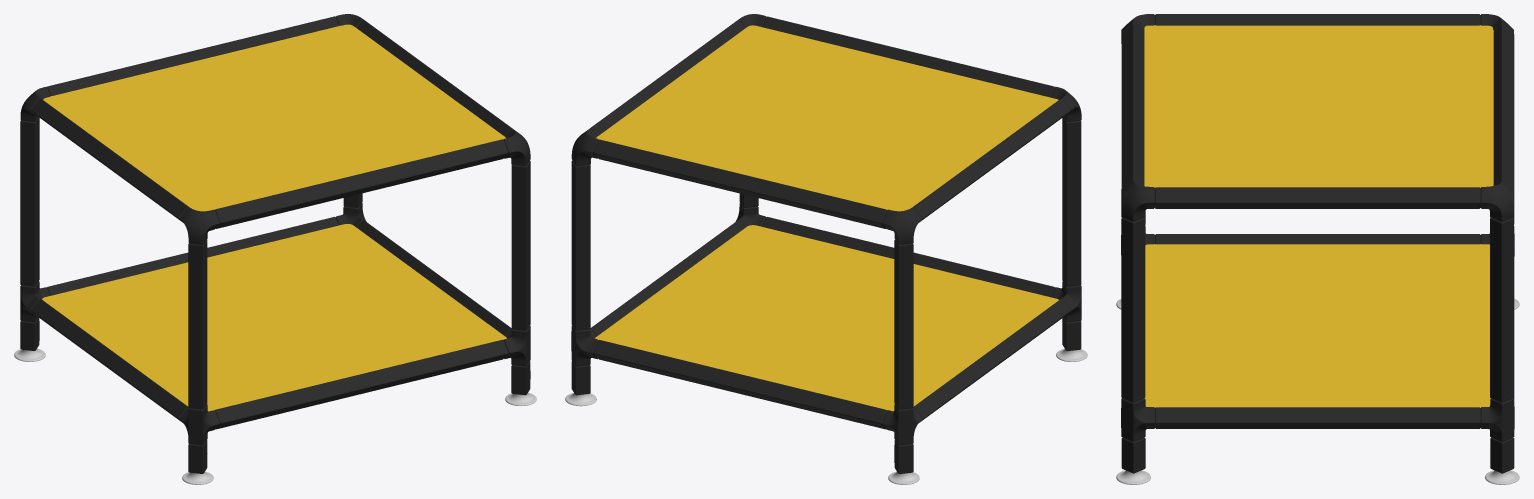
The picture shows the model from 3 angles, left to right: view 1: azimuth 30°, elevation 25°; view 2: azimuth 150°, elevation 25°; view 3: azimuth 270°, elevation 25°; orthographic projection. The views are drawn at different scales.
Parts seen in each view (by area): view 1: 420x374x229; view 2: 420x374x229; view 3: 420x374x229.
Part boxes in pixels (box(x1,y1,x2,y2)): 420x374x229: box(14, 14, 536, 484); 420x374x229: box(565, 14, 1087, 484); 420x374x229: box(1116, 14, 1519, 484).
Bounding box in the file's own units: 0.5099 × 0.3683 × 0.4632.
